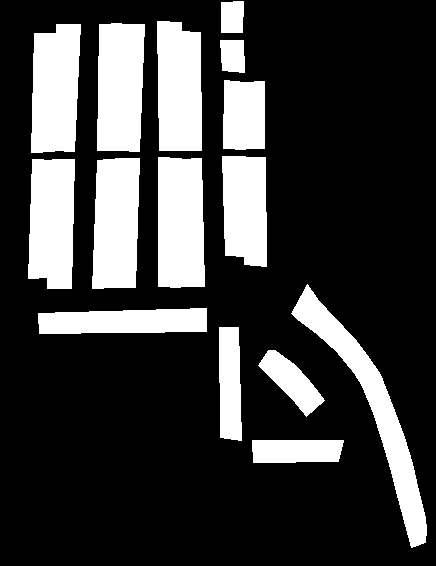parkingspot: (291, 284, 426, 547), (258, 350, 324, 416), (38, 308, 206, 333), (92, 158, 120, 288), (52, 24, 80, 151), (47, 159, 74, 288), (117, 24, 144, 151), (113, 158, 139, 287), (31, 33, 58, 152), (179, 158, 204, 286), (157, 21, 181, 150), (28, 159, 54, 278), (97, 23, 121, 150), (158, 157, 181, 287), (179, 31, 201, 150), (243, 157, 266, 266), (219, 327, 241, 440), (222, 156, 246, 256), (252, 440, 343, 462), (223, 80, 245, 149), (242, 81, 264, 148), (220, 40, 244, 72), (221, 1, 243, 32)
